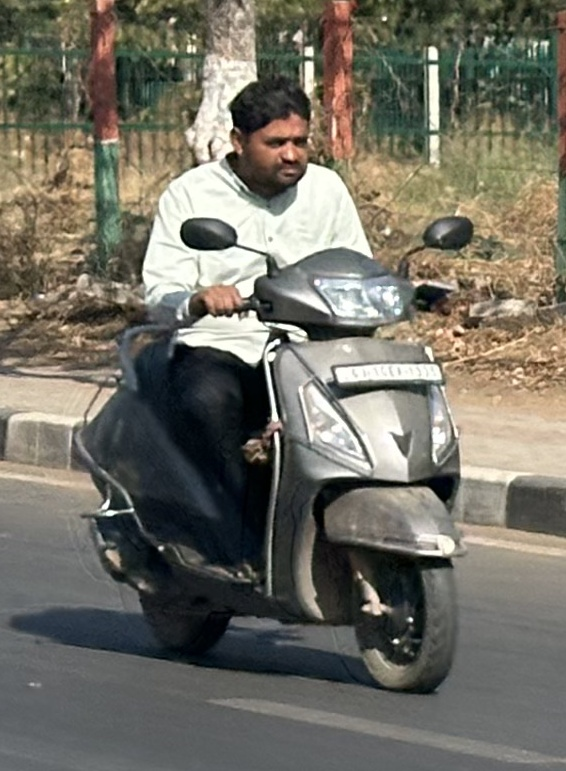BikeWithRider: (58, 64, 486, 702)
NoHelmet: (214, 69, 326, 193)
